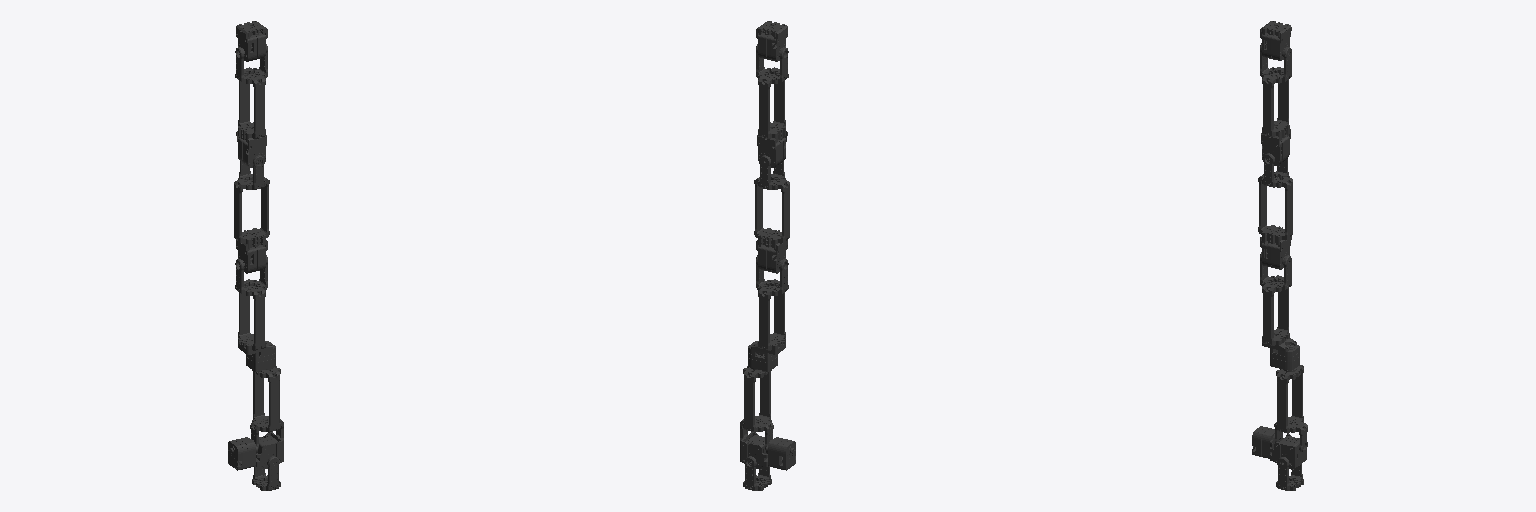
URDF robot description (arm):
<?xml version="1.0" encoding="utf-8"?>
<!-- This URDF was automatically created by SolidWorks to URDF Exporter! Originally created by [author] ([email redacted]) 
     Commit Version: 1.6.0-4-g7f85cfe  Build Version: 1.6.7995.38578
     For more information, please see http://wiki.ros.org/sw_urdf_exporter -->
<robot
  name="arm">
  <link
    name="base_link">
    <inertial>
      <origin
        xyz="1.0923E-09 -0.00036956 0.01462"
        rpy="0 0 0" />
      <mass
        value="0.0075189" />
      <inertia
        ixx="1.0989E-06"
        ixy="-6.2351E-15"
        ixz="5.849E-14"
        iyy="1.1804E-06"
        iyz="6.6338E-09"
        izz="4.0321E-07" />
    </inertial>
    <visual>
      <origin
        xyz="0 0 0"
        rpy="0 0 0" />
      <geometry>
        <mesh
          filename="package://arm/meshes/base_link.STL" />
      </geometry>
      <material
        name="">
        <color
          rgba="0.29804 0.29804 0.29804 1" />
      </material>
    </visual>
    <collision>
      <origin
        xyz="0 0 0"
        rpy="0 0 0" />
      <geometry>
        <mesh
          filename="package://arm/meshes/base_link.STL" />
      </geometry>
    </collision>
  </link>
  <link
    name="1st_Link">
    <inertial>
      <origin
        xyz="-0.015399 0.0074273 0.010446"
        rpy="0 0 0" />
      <mass
        value="0.048882" />
      <inertia
        ixx="6.8979E-06"
        ixy="-2.3831E-08"
        ixz="1.1596E-08"
        iyy="6.302E-06"
        iyz="1.8013E-08"
        izz="5.3898E-06" />
    </inertial>
    <visual>
      <origin
        xyz="0 0 0"
        rpy="0 0 0" />
      <geometry>
        <mesh
          filename="package://arm/meshes/1st_Link.STL" />
      </geometry>
      <material
        name="">
        <color
          rgba="0.29804 0.29804 0.29804 1" />
      </material>
    </visual>
    <collision>
      <origin
        xyz="0 0 0"
        rpy="0 0 0" />
      <geometry>
        <mesh
          filename="package://arm/meshes/1st_Link.STL" />
      </geometry>
    </collision>
  </link>
  <joint
    name="1st_joint"
    type="revolute">
    <origin
      xyz="0 -0.0075 0.038"
      rpy="0 0 0" />
    <parent
      link="base_link" />
    <child
      link="1st_Link" />
    <axis
      xyz="0 1 0" />
    <limit
      lower="0"
      upper="0"
      effort="0"
      velocity="0" />
  </joint>
  <link
    name="2nd_Link">
    <inertial>
      <origin
        xyz="0.027763 4.3705E-15 0.05401"
        rpy="0 0 0" />
      <mass
        value="0.020588" />
      <inertia
        ixx="7.8383E-06"
        ixy="1.589E-21"
        ixz="7.3274E-09"
        iyy="7.9107E-06"
        iyz="-1.5828E-21"
        izz="9.7116E-07" />
    </inertial>
    <visual>
      <origin
        xyz="0 0 0"
        rpy="0 0 0" />
      <geometry>
        <mesh
          filename="package://arm/meshes/2nd_Link.STL" />
      </geometry>
      <material
        name="">
        <color
          rgba="0.29804 0.29804 0.29804 1" />
      </material>
    </visual>
    <collision>
      <origin
        xyz="0 0 0"
        rpy="0 0 0" />
      <geometry>
        <mesh
          filename="package://arm/meshes/2nd_Link.STL" />
      </geometry>
    </collision>
  </link>
  <joint
    name="2nd_joint"
    type="revolute">
    <origin
      xyz="-0.0275 0.0075 0.021"
      rpy="0 0 0" />
    <parent
      link="1st_Link" />
    <child
      link="2nd_Link" />
    <axis
      xyz="-1 0 0" />
    <limit
      lower="0"
      upper="0"
      effort="0"
      velocity="0" />
  </joint>
  <link
    name="3rd_Link">
    <inertial>
      <origin
        xyz="-0.014263 -4.4343E-05 0.041357"
        rpy="0 0 0" />
      <mass
        value="0.046001" />
      <inertia
        ixx="1.0929E-05"
        ixy="-3.1856E-09"
        ixz="-1.7863E-08"
        iyy="1.182E-05"
        iyz="1.1677E-08"
        izz="4.515E-06" />
    </inertial>
    <visual>
      <origin
        xyz="0 0 0"
        rpy="0 0 0" />
      <geometry>
        <mesh
          filename="package://arm/meshes/3rd_Link.STL" />
      </geometry>
      <material
        name="">
        <color
          rgba="0.29804 0.29804 0.29804 1" />
      </material>
    </visual>
    <collision>
      <origin
        xyz="0 0 0"
        rpy="0 0 0" />
      <geometry>
        <mesh
          filename="package://arm/meshes/3rd_Link.STL" />
      </geometry>
    </collision>
  </link>
  <joint
    name="3rd_joint"
    type="revolute">
    <origin
      xyz="0.0275 0 0.112"
      rpy="0 0 0" />
    <parent
      link="2nd_Link" />
    <child
      link="3rd_Link" />
    <axis
      xyz="0 0 1" />
    <limit
      lower="0"
      upper="0"
      effort="0"
      velocity="0" />
  </joint>
  <link
    name="4th_Link">
    <inertial>
      <origin
        xyz="-0.0074588 0.00010484 0.044375"
        rpy="0 0 0" />
      <mass
        value="0.04603" />
      <inertia
        ixx="1.1483E-05"
        ixy="1.1677E-08"
        ixz="-2.1055E-08"
        iyy="1.15E-05"
        iyz="-9.849E-09"
        izz="3.6533E-06" />
    </inertial>
    <visual>
      <origin
        xyz="0 0 0"
        rpy="0 0 0" />
      <geometry>
        <mesh
          filename="package://arm/meshes/4th_Link.STL" />
      </geometry>
      <material
        name="">
        <color
          rgba="0.29804 0.29804 0.29804 1" />
      </material>
    </visual>
    <collision>
      <origin
        xyz="0 0 0"
        rpy="0 0 0" />
      <geometry>
        <mesh
          filename="package://arm/meshes/4th_Link.STL" />
      </geometry>
    </collision>
  </link>
  <joint
    name="4th_joint"
    type="revolute">
    <origin
      xyz="-0.0135 0 0.139"
      rpy="0 0 0" />
    <parent
      link="3rd_Link" />
    <child
      link="4th_Link" />
    <axis
      xyz="-1 0 0" />
    <limit
      lower="0"
      upper="0"
      effort="0"
      velocity="0" />
  </joint>
  <link
    name="5th_Link">
    <inertial>
      <origin
        xyz="1.65665414228744E-05 -0.00745860239072963 0.0443751106653841"
        rpy="0 0 0" />
      <mass
        value="0.0460295689846967" />
      <inertia
        ixx="1.15001031532943E-05"
        ixy="-1.16770189992613E-08"
        ixz="-3.53768586035351E-09"
        iyy="1.14828431326992E-05"
        iyz="-2.1082723061138E-08"
        izz="3.6532975004842E-06" />
    </inertial>
    <visual>
      <origin
        xyz="0 0 0"
        rpy="0 0 0" />
      <geometry>
        <mesh
          filename="package://arm/meshes/5th_Link.STL" />
      </geometry>
      <material
        name="">
        <color
          rgba="0.298039215686275 0.298039215686275 0.298039215686275 1" />
      </material>
    </visual>
    <collision>
      <origin
        xyz="0 0 0"
        rpy="0 0 0" />
      <geometry>
        <mesh
          filename="package://arm/meshes/5th_Link.STL" />
      </geometry>
    </collision>
  </link>
  <joint
    name="5th_joint"
    type="revolute">
    <origin
      xyz="-0.0075 0.0075005 0.145"
      rpy="0 0 0" />
    <parent
      link="4th_Link" />
    <child
      link="5th_Link" />
    <axis
      xyz="0 -1 0" />
    <limit
      lower="0"
      upper="0"
      effort="0"
      velocity="0" />
  </joint>
  <link
    name="6th_Link">
    <inertial>
      <origin
        xyz="-0.00742594942774238 7.92049952883098E-05 0.010765199236792"
        rpy="0 0 0" />
      <mass
        value="0.0256754898662028" />
      <inertia
        ixx="3.12264044102928E-06"
        ixy="1.16771992938427E-08"
        ixz="-2.10590464254499E-08"
        iyy="3.19682613445759E-06"
        iyz="-3.17595873109114E-09"
        izz="2.70646972284129E-06" />
    </inertial>
    <visual>
      <origin
        xyz="0 0 0"
        rpy="0 0 0" />
      <geometry>
        <mesh
          filename="package://arm/meshes/6th_Link.STL" />
      </geometry>
      <material
        name="">
        <color
          rgba="0.298039215686275 0.298039215686275 0.298039215686275 1" />
      </material>
    </visual>
    <collision>
      <origin
        xyz="0 0 0"
        rpy="0 0 0" />
      <geometry>
        <mesh
          filename="package://arm/meshes/6th_Link.STL" />
      </geometry>
    </collision>
  </link>
  <joint
    name="6th_joint"
    type="revolute">
    <origin
      xyz="0.0075017 -0.0074995 0.145"
      rpy="0 0 0" />
    <parent
      link="5th_Link" />
    <child
      link="6th_Link" />
    <axis
      xyz="-1 0 1.155E-05" />
    <limit
      lower="0"
      upper="0"
      effort="0"
      velocity="0" />
  </joint>
</robot>

--- Facts derived from the render (not from the file) ---
Views: 3 orthographic renders of the robot side by side, from view 1: azimuth 30°, elevation 25°; view 2: azimuth 150°, elevation 25°; view 3: azimuth 330°, elevation 25°.
Robot: arm — 7 links, 6 joints (6 revolute); root link base_link; default pose: all joints at 0.
Links seen in each view (by area): view 1: 5th_Link, 3rd_Link, 4th_Link, 2nd_Link, 1st_Link, 6th_Link, base_link; view 2: 5th_Link, 3rd_Link, 4th_Link, 2nd_Link, 1st_Link, 6th_Link, base_link; view 3: 3rd_Link, 5th_Link, 4th_Link, 2nd_Link, 1st_Link, 6th_Link, base_link.
Boxes of the visible links, x1=… form: 5th_Link: x1=235, y1=44, x2=267, y2=167; 3rd_Link: x1=235, y1=255, x2=275, y2=371; 4th_Link: x1=234, y1=155, x2=269, y2=273; 2nd_Link: x1=250, y1=366, x2=283, y2=449; 1st_Link: x1=228, y1=432, x2=283, y2=470; 6th_Link: x1=236, y1=21, x2=267, y2=61; base_link: x1=252, y1=456, x2=280, y2=490; 5th_Link: x1=756, y1=44, x2=788, y2=167; 3rd_Link: x1=748, y1=255, x2=788, y2=371; 4th_Link: x1=754, y1=155, x2=789, y2=273; 2nd_Link: x1=740, y1=366, x2=773, y2=449; 1st_Link: x1=740, y1=432, x2=795, y2=470; 6th_Link: x1=756, y1=21, x2=787, y2=61; base_link: x1=743, y1=456, x2=771, y2=490; 3rd_Link: x1=1260, y1=252, x2=1299, y2=370; 5th_Link: x1=1260, y1=43, x2=1291, y2=165; 4th_Link: x1=1258, y1=153, x2=1292, y2=269; 2nd_Link: x1=1274, y1=365, x2=1307, y2=451; 1st_Link: x1=1252, y1=426, x2=1306, y2=469; 6th_Link: x1=1260, y1=21, x2=1291, y2=60; base_link: x1=1276, y1=457, x2=1303, y2=490.
Size in the robot's own frame: 0.0725 by 0.043 by 0.633 metres.
7 mesh visuals loaded from 7 distinct referenced files (7 binary STL).